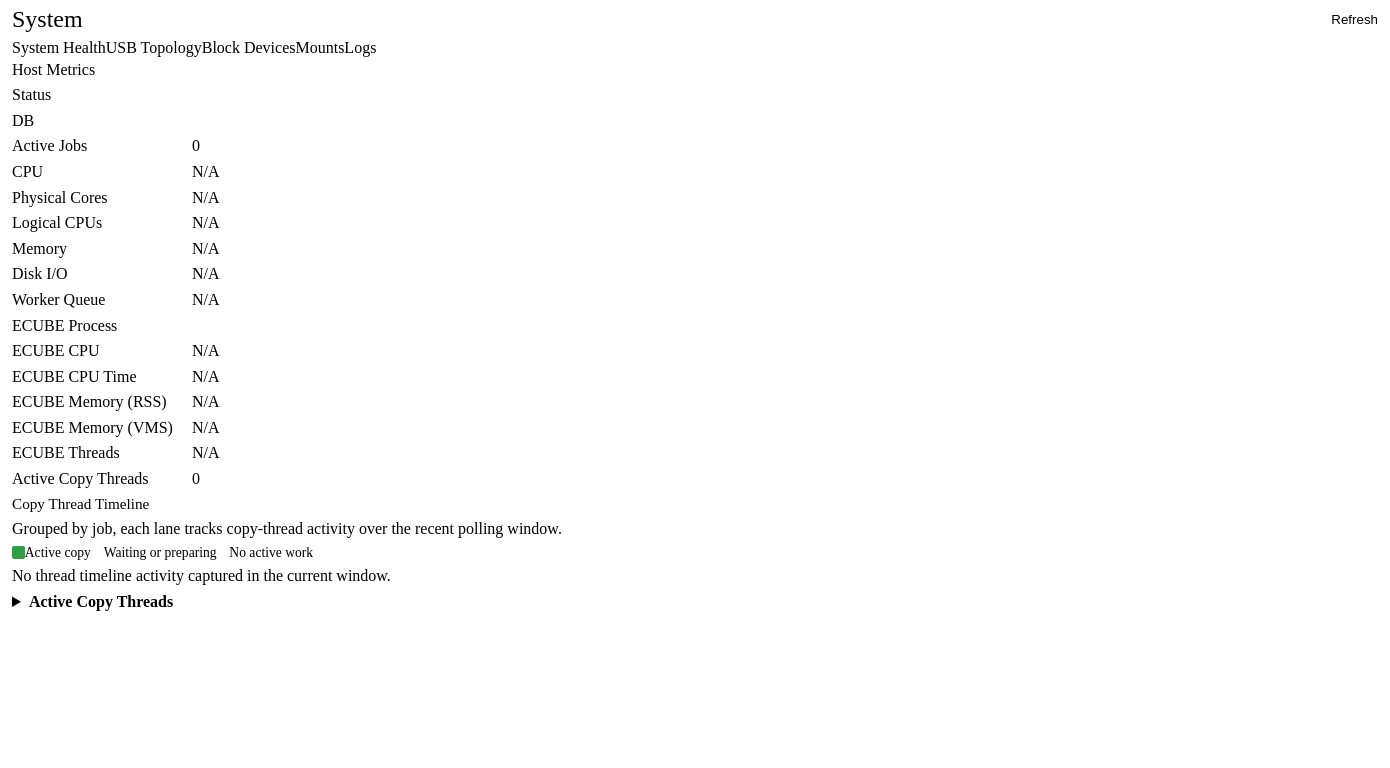
Test: SystemView USB topology tab › shows serial number and speed columns in USB topology
Click the tab "USB Topology" at (154, 48), box [106, 38, 202, 58]
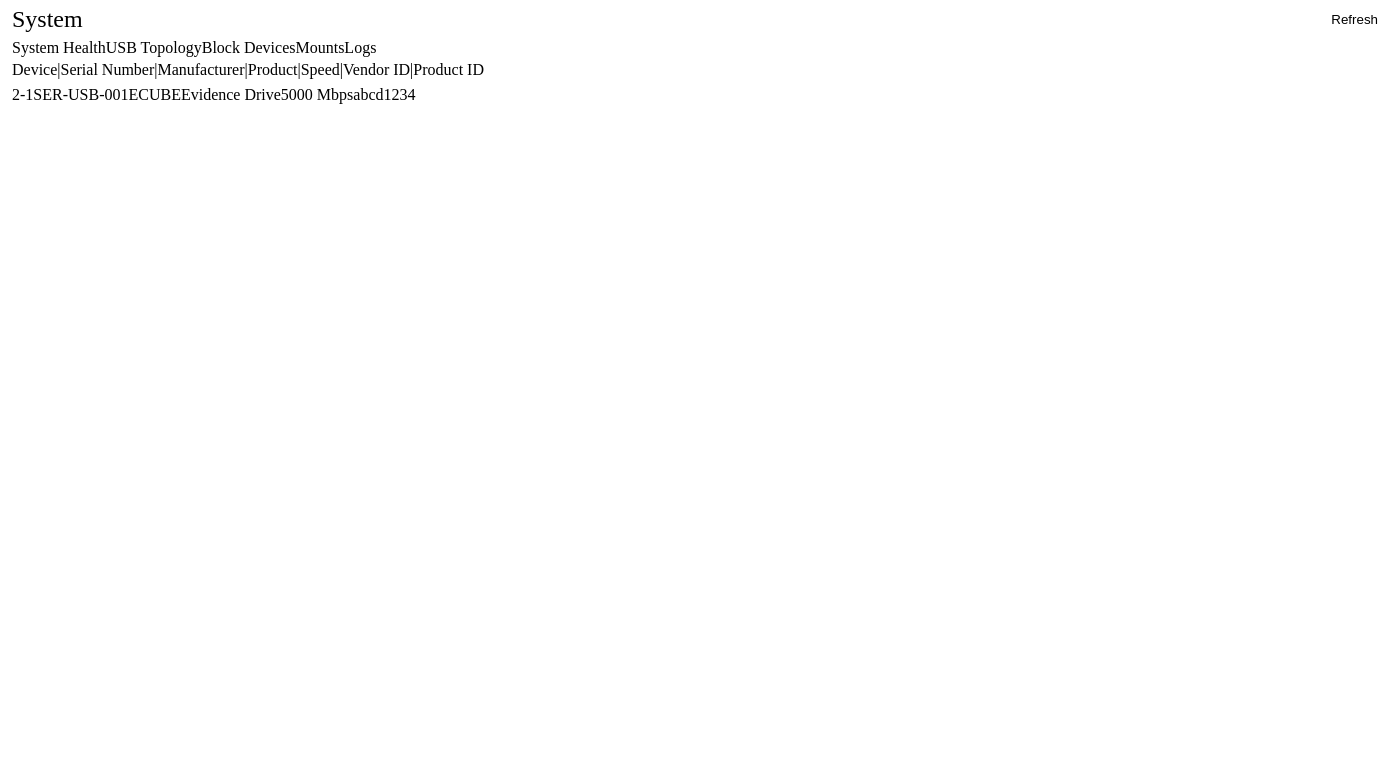
Expected: the text "Serial Number" is shown, [12, 61, 484, 78]
Expected: the text "SER-USB-001" is shown, [33, 86, 128, 103]
Expected: the text "Speed" is shown, [12, 61, 484, 78]
